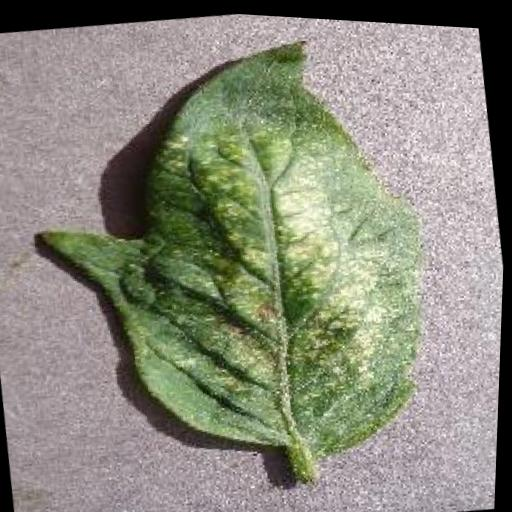Spider Mites: (7, 11, 458, 494)
